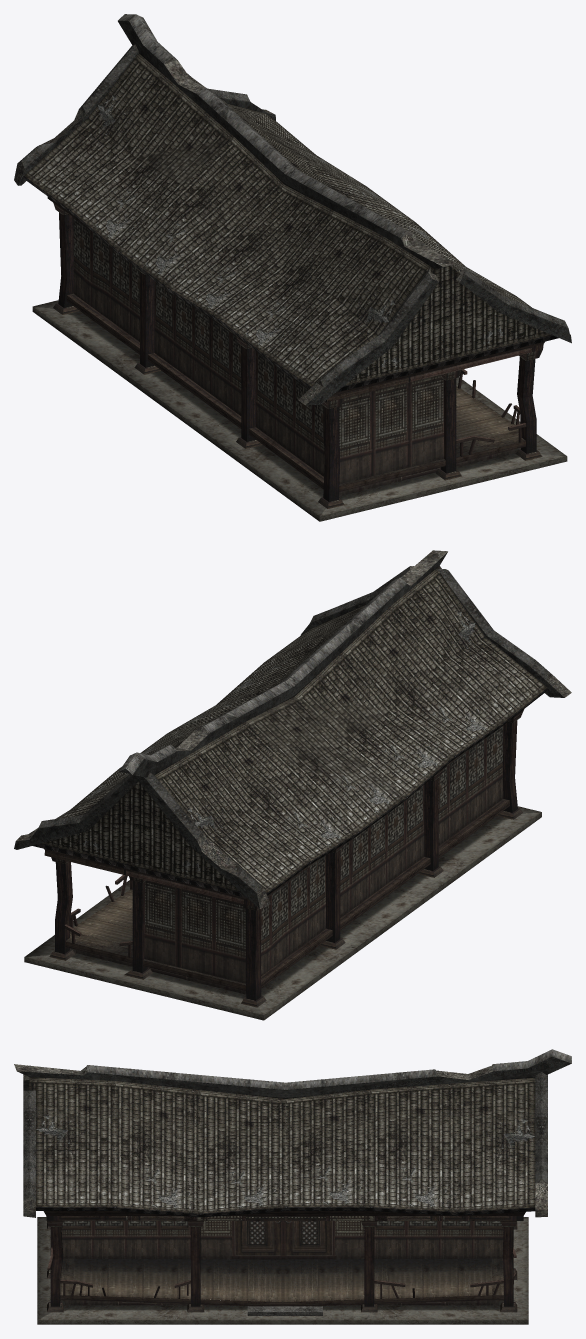
File: ep-033-guesthouse-02.fbx
3 renders of one model, top to bottom at view 1: azimuth 30°, elevation 25°; view 2: azimuth 150°, elevation 25°; view 3: azimuth 270°, elevation 25°, orthographic. The views are drawn at different scales.
Parts seen in each view (by area): view 1: ep-033-guesthouse-01, ep-033-guesthouse-02; view 2: ep-033-guesthouse-01, ep-033-guesthouse-02; view 3: ep-033-guesthouse-01, ep-033-guesthouse-02.
Part boxes in pixels (<box>): ep-033-guesthouse-01: <box>14,14,571,405</box>; ep-033-guesthouse-02: <box>32,196,567,521</box>; ep-033-guesthouse-01: <box>14,550,571,909</box>; ep-033-guesthouse-02: <box>24,709,541,1020</box>; ep-033-guesthouse-01: <box>14,1049,571,1315</box>; ep-033-guesthouse-02: <box>37,1211,528,1324</box>.
Bounding box in the file's own units: 12.79 × 11.57 × 26.46.
